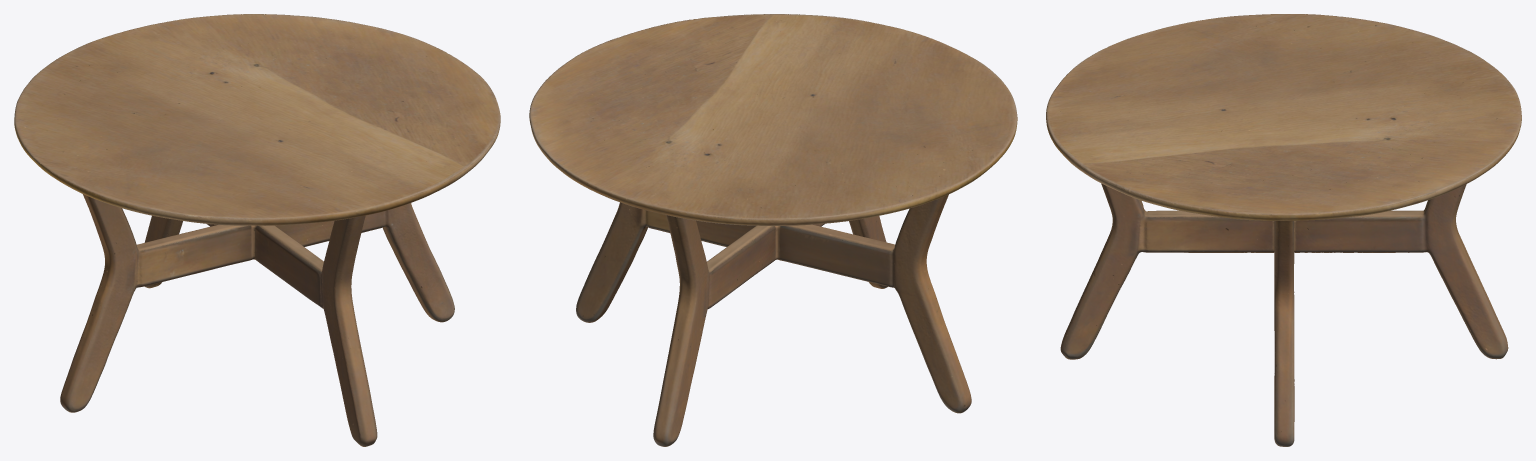
Rendered from Round_Oak_Coffee_Table.glb.
3 views of the same model, side by side, from view 1: azimuth 30°, elevation 25°; view 2: azimuth 150°, elevation 25°; view 3: azimuth 270°, elevation 25° (orthographic). The views are drawn at different scales.
Bounding box in the file's own units: 2 × 1.13 × 2.
1 material, 1 textured.
